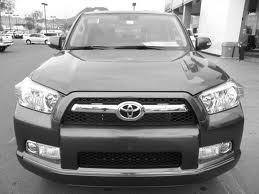car: (7, 12, 245, 187)
